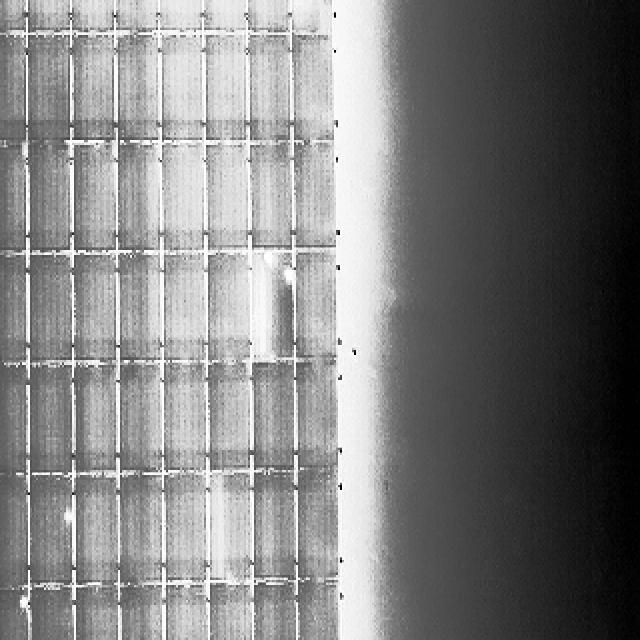Hotspots: (278, 264, 302, 289), (256, 252, 279, 270), (61, 508, 76, 528), (15, 592, 30, 611)
PV-modules: (164, 471, 212, 584), (71, 364, 119, 476), (72, 478, 120, 589), (295, 254, 342, 364), (163, 257, 210, 367), (164, 368, 210, 480), (118, 477, 164, 589), (30, 252, 76, 362), (162, 145, 208, 255), (30, 365, 76, 475), (31, 478, 76, 590), (294, 472, 339, 584), (204, 250, 249, 362), (207, 475, 252, 587), (70, 144, 116, 253), (251, 364, 296, 475), (294, 359, 338, 472), (27, 34, 73, 142), (70, 32, 116, 140), (252, 250, 297, 360), (70, 252, 115, 362), (111, 34, 156, 144), (116, 368, 160, 480), (116, 251, 161, 360), (252, 471, 296, 582), (31, 144, 75, 255), (205, 362, 249, 473), (117, 144, 162, 252), (244, 34, 288, 144), (296, 145, 340, 255), (202, 34, 246, 142), (203, 145, 247, 253), (162, 32, 206, 140), (76, 587, 165, 640), (247, 144, 290, 252), (290, 33, 333, 140), (0, 363, 28, 475), (0, 255, 26, 367), (0, 475, 26, 587), (0, 142, 26, 252), (251, 583, 297, 640), (0, 32, 24, 140), (205, 584, 251, 640), (29, 588, 78, 640), (70, 587, 117, 640), (165, 585, 210, 640), (294, 583, 337, 640), (119, 586, 163, 640), (68, 0, 114, 35), (110, 0, 160, 32), (0, 587, 30, 640), (242, 0, 290, 32), (24, 0, 72, 30), (200, 0, 244, 30), (160, 0, 204, 30), (292, 0, 336, 30), (0, 0, 26, 30)
